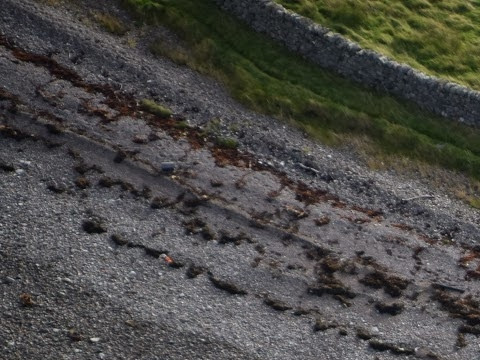white_in_green: (142, 143, 198, 186), (141, 236, 197, 279)
